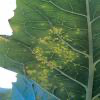Tomato leaf bacterial spot: (5, 3, 100, 96)
